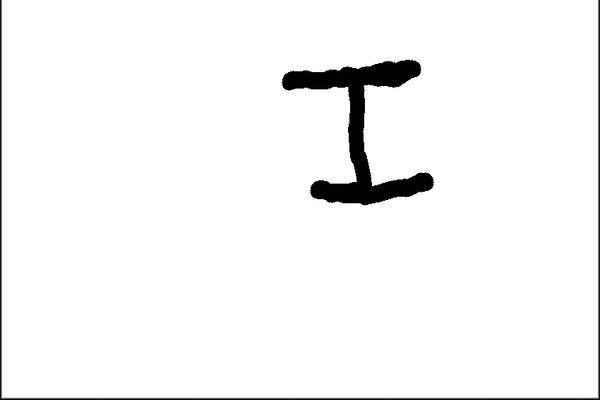i: (277, 49, 462, 210)
